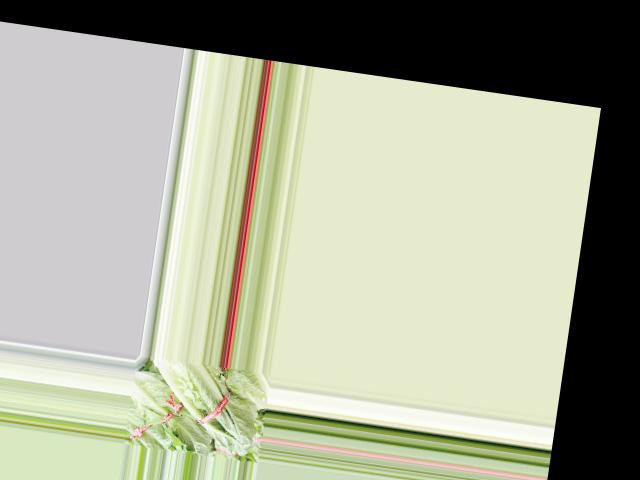lettuce: (143, 356, 265, 458)
